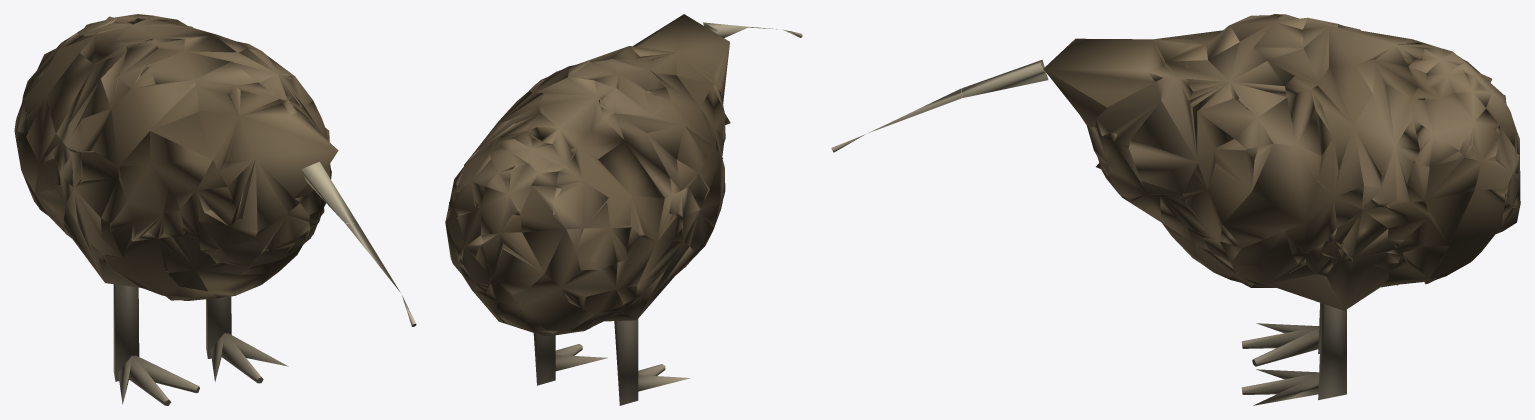
The model's file is kiwi.glb.
3 renders of one model, left to right at view 1: azimuth 30°, elevation 25°; view 2: azimuth 150°, elevation 25°; view 3: azimuth 270°, elevation 25°, orthographic. The views are drawn at different scales.
Visible parts, largest first — view 1: lack; view 2: lack; view 3: lack.
Part boxes in pixels (x1=…): lack: x1=14, y1=14, x2=416, y2=405; lack: x1=445, y1=14, x2=802, y2=405; lack: x1=831, y1=14, x2=1520, y2=405.
Size of the model in its own units: 0.1983 by 0.2787 by 0.505.
